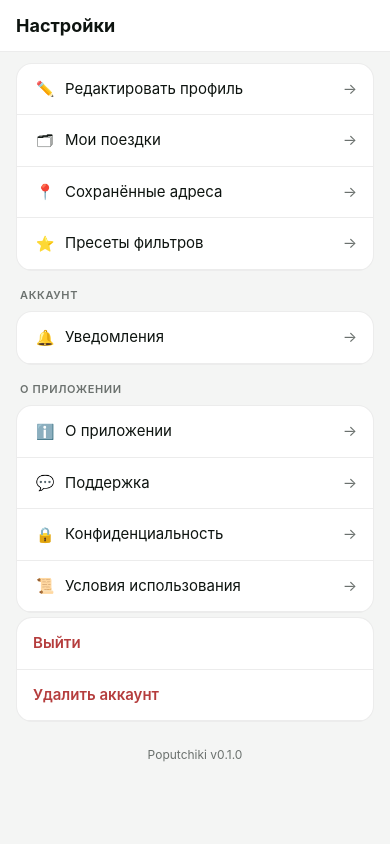
it: SettingsScreen › submit удаления заблокирован пока не введено 'УДАЛИТЬ'
The image size is (390, 844).
(page scrolled)
Step 1. Click the button with test id "delete-account-btn" → coordinates (96, 694), box 17,670 -> 373,721
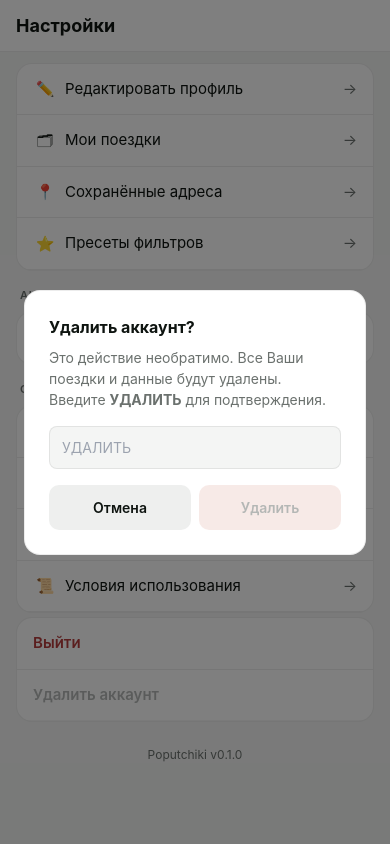
Expected: the button with test id "delete-confirm-submit" is disabled, 199,484 -> 341,530
Step 2. Type "удалить" into the field with test id "delete-confirm-input" → coordinates (195, 447), box 49,426 -> 341,468
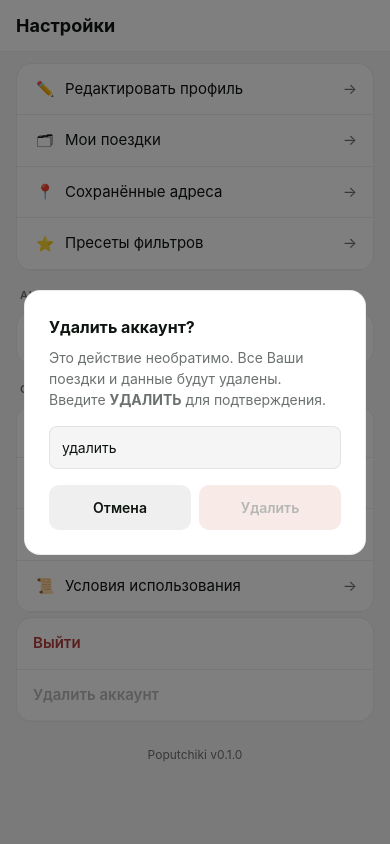
Expected: the button with test id "delete-confirm-submit" is disabled, 199,484 -> 341,530
Step 3. Replace the text in the field with test id "delete-confirm-input" with "УДАЛИТЬ" → coordinates (195, 447), box 49,426 -> 341,468
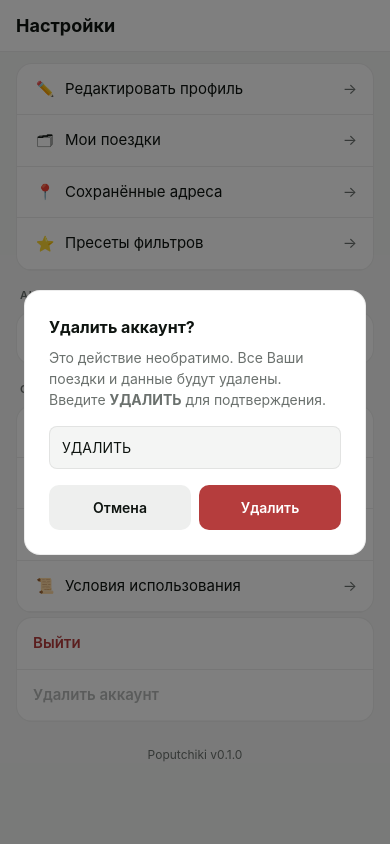
Expected: the button with test id "delete-confirm-submit" is enabled, 199,484 -> 341,530
